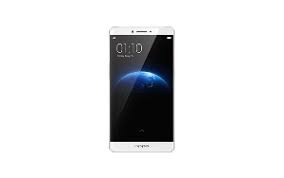oppo: (106, 23, 179, 156)
